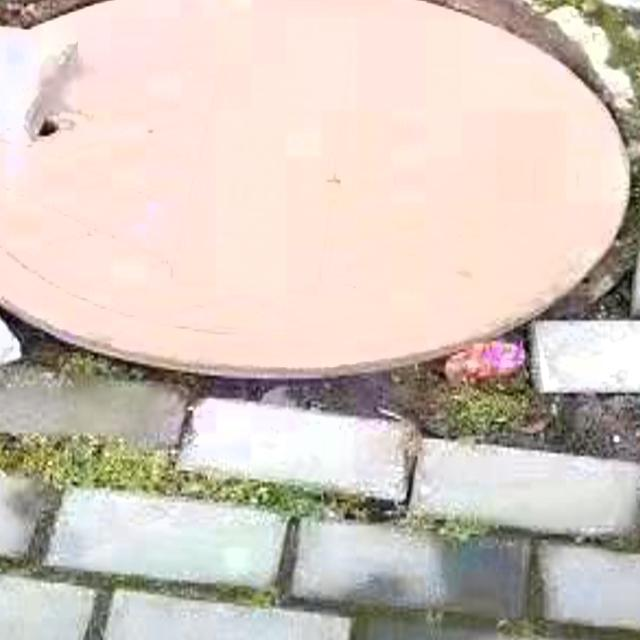uncovered: (0, 0, 634, 381)
